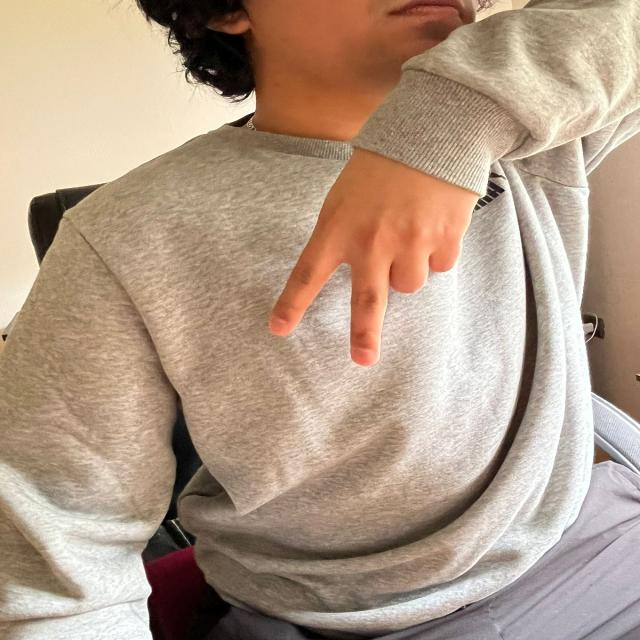N: (263, 126, 488, 374)
